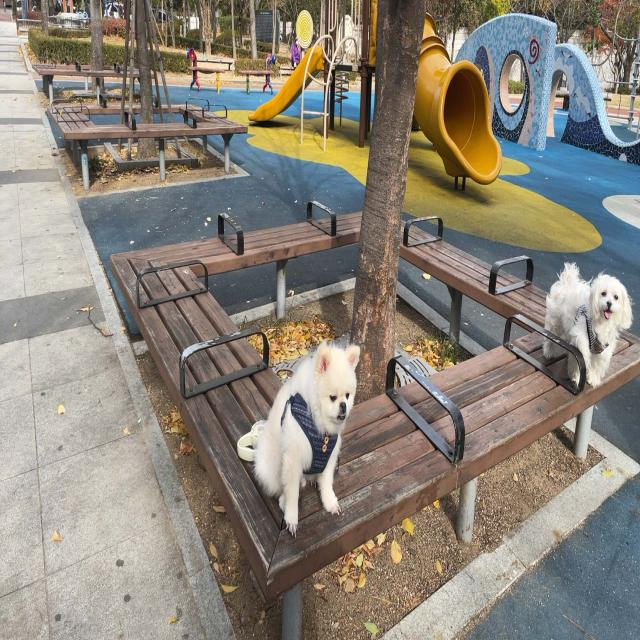Dog: (254, 342, 361, 537), (544, 262, 633, 392)
